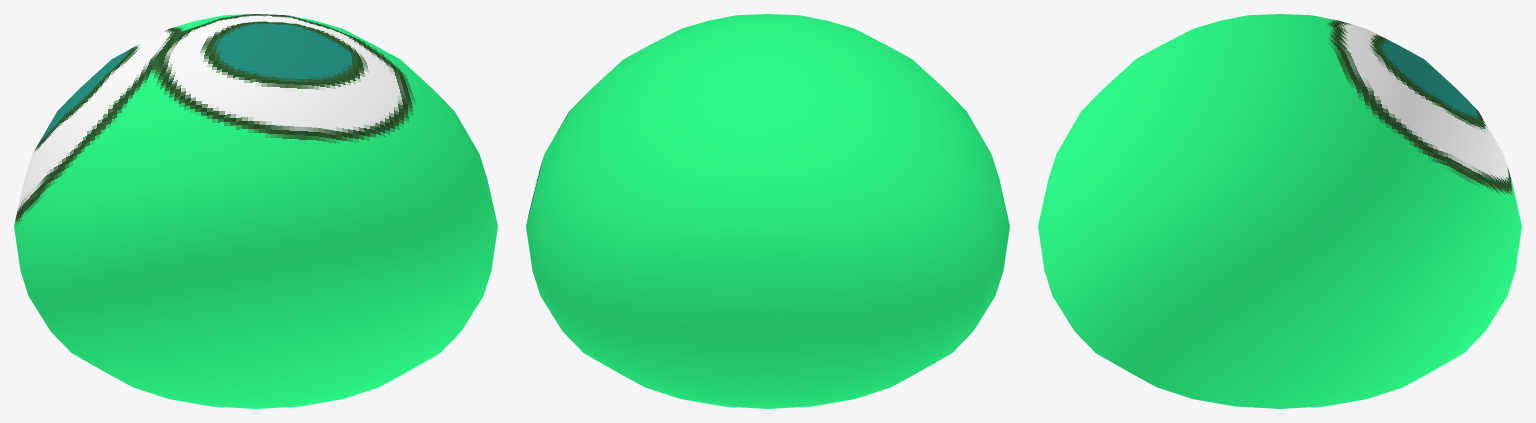
Rendered from ps2_save-icons_puyopuyofever.glb.
3 renders of one model, left to right at view 1: azimuth 30°, elevation 25°; view 2: azimuth 150°, elevation 25°; view 3: azimuth 270°, elevation 25°, orthographic.
Parts seen in each view (by area): view 1: ICO0.ICO; view 2: ICO0.ICO; view 3: ICO0.ICO.
Part boxes in pixels (x1,y1,x2,y2): ICO0.ICO: (14,14,497,408); ICO0.ICO: (526,14,1009,408); ICO0.ICO: (1038,14,1521,408).
Size of the model in its own units: 4.16 by 3.2 by 4.16.
1 material, 1 textured.
